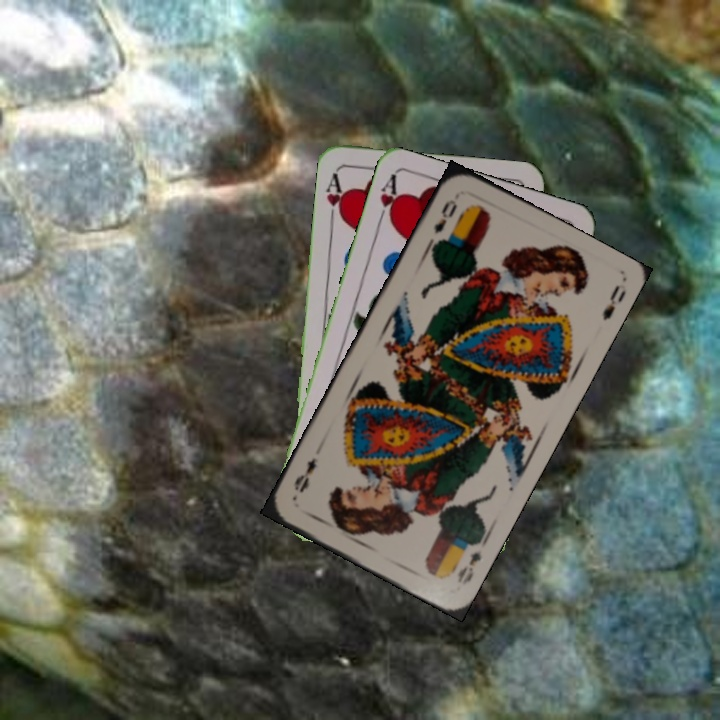EO: (448, 535, 489, 588), (429, 195, 460, 237)
HA: (372, 171, 403, 229), (322, 169, 349, 227)
